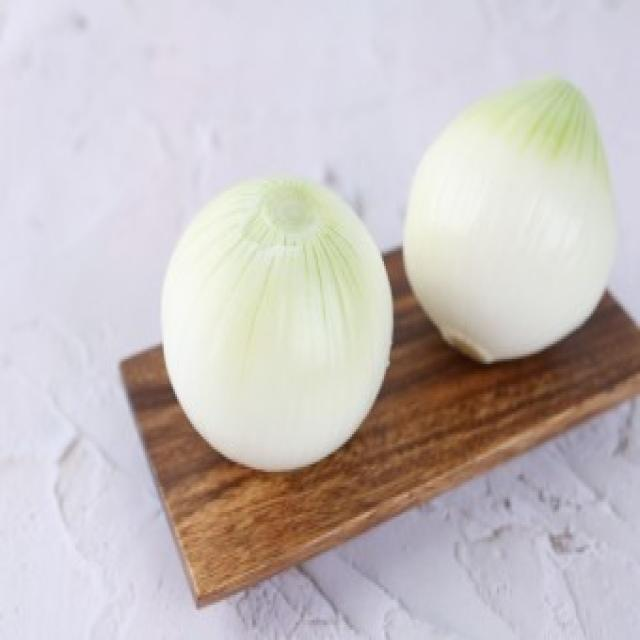onion: (157, 170, 399, 484), (388, 73, 618, 380)
